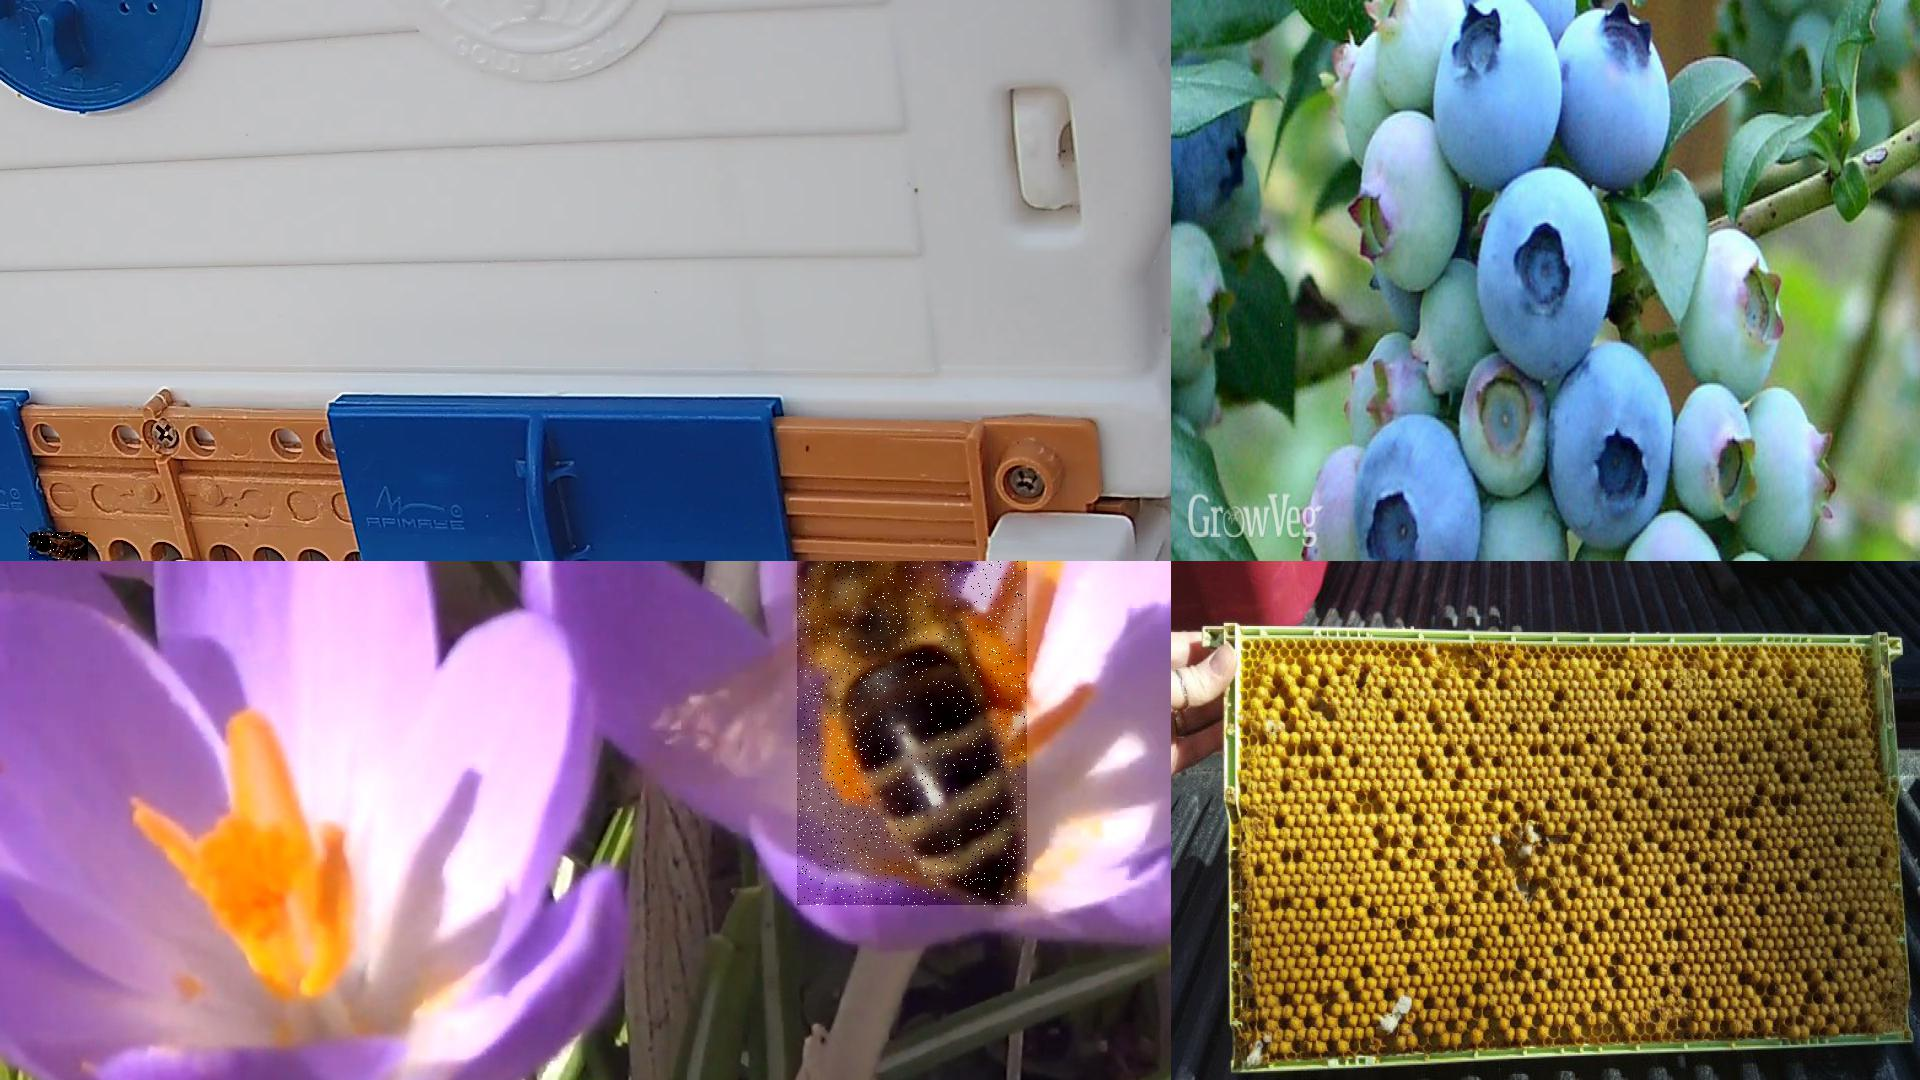bee: (29, 531, 90, 560)
pollenbee: (796, 560, 1029, 909)
